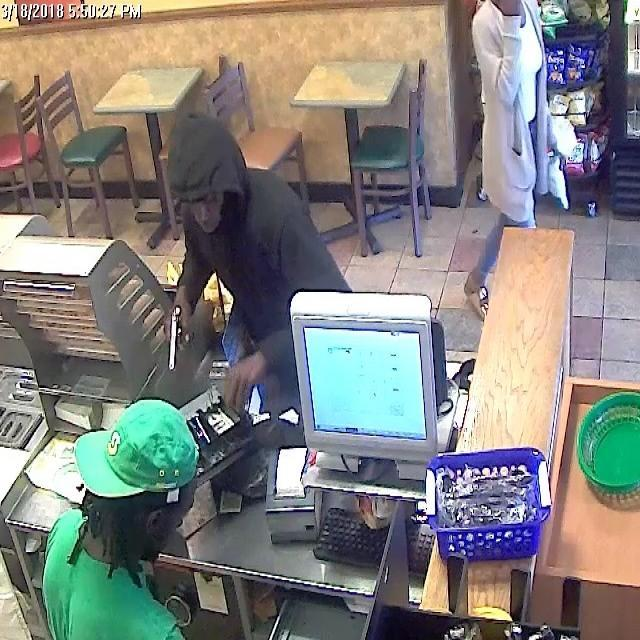weapon: (160, 296, 200, 374)
